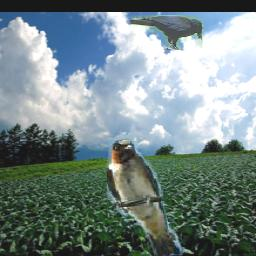Crow: (130, 16, 203, 51)
Swallow: (106, 135, 184, 256)
